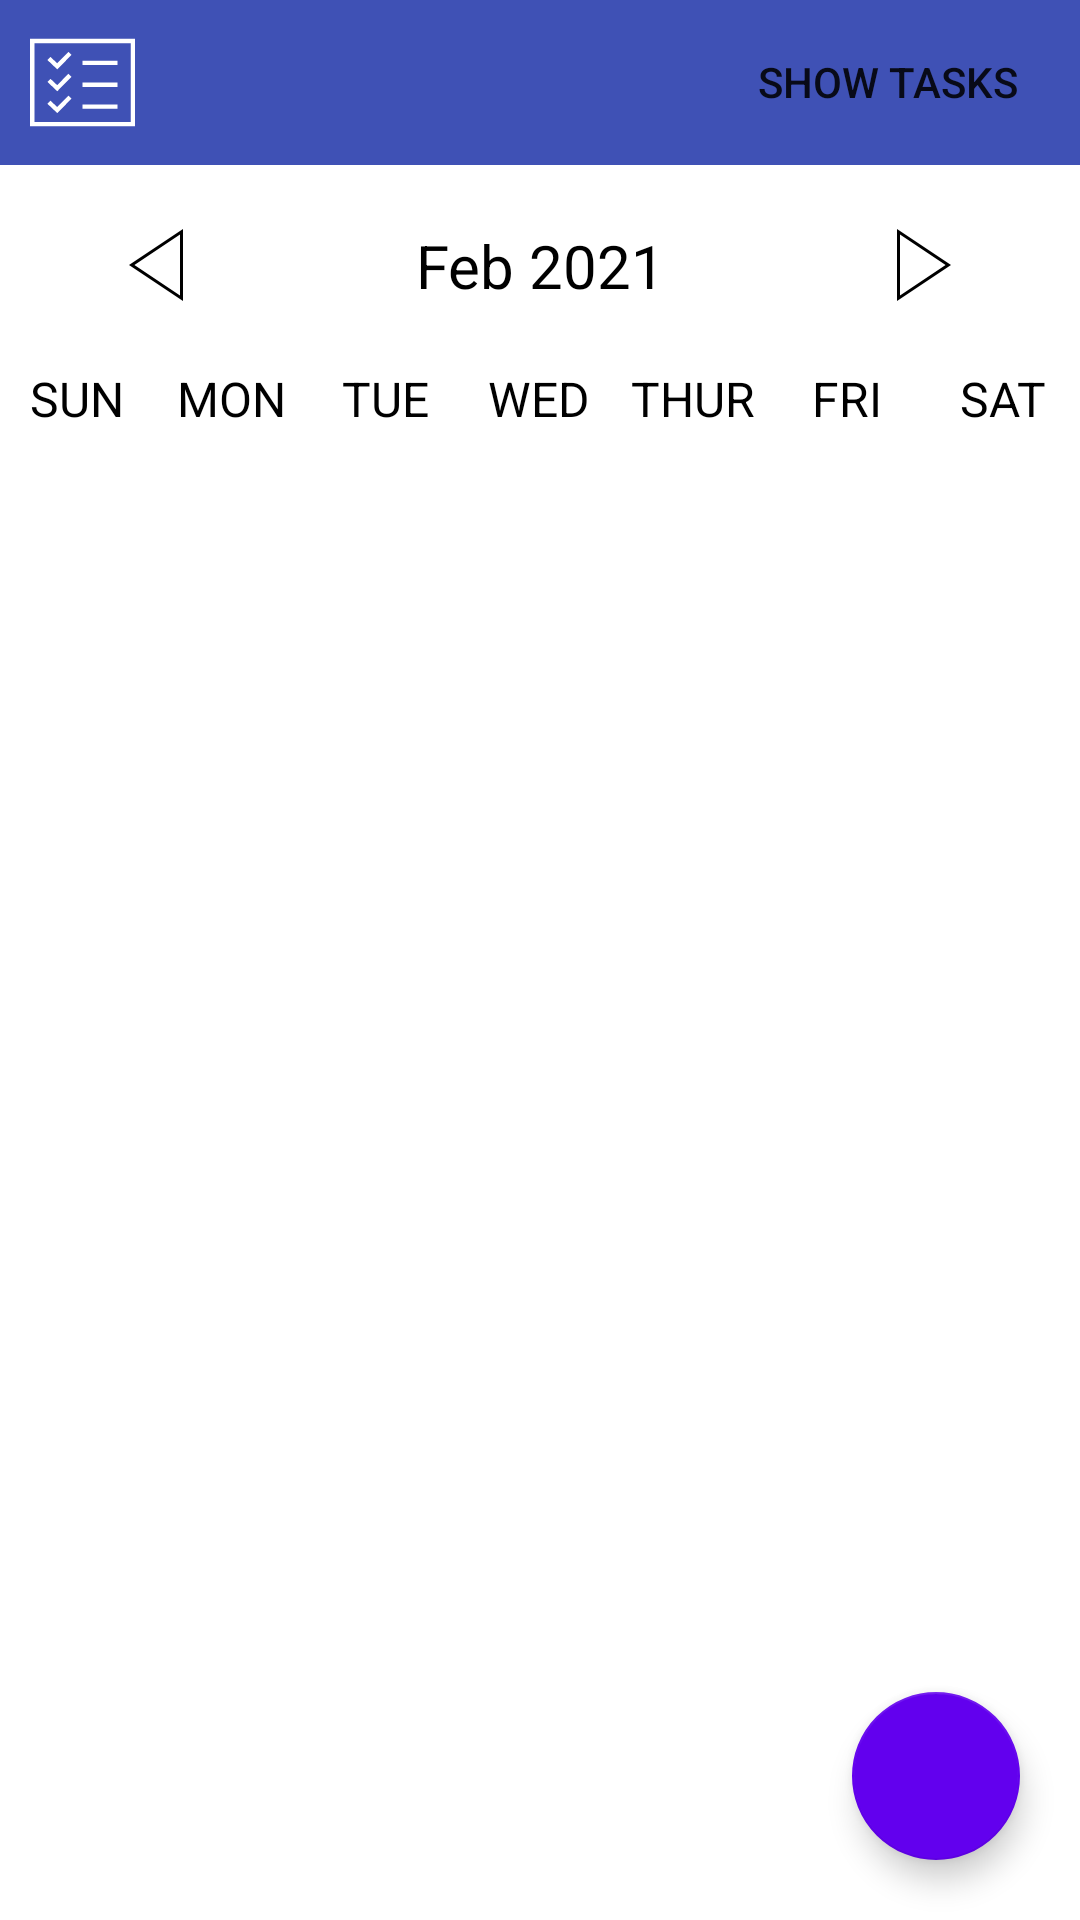

Where to tap for icons on this 1080x1920 app screen, as (x,y):
next month: (924,265)
previous month: (156,265)
task: (82,82)
